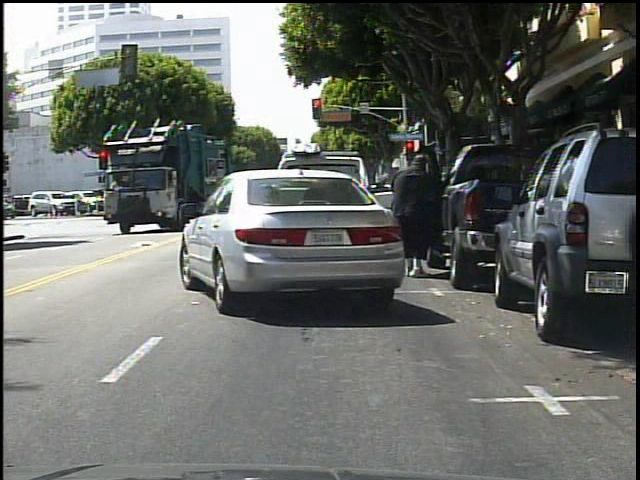person: (389, 149, 446, 283)
